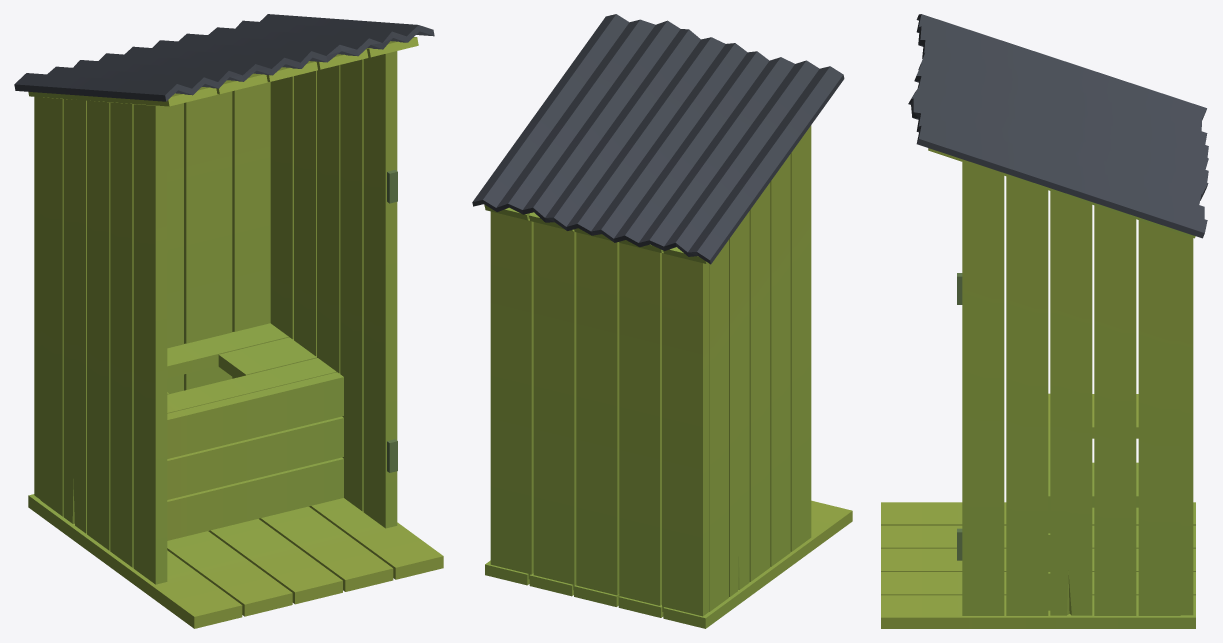
The model's file is Toilet_01.fbx.
The picture shows the model from 3 angles, left to right: view 1: azimuth 30°, elevation 25°; view 2: azimuth 150°, elevation 25°; view 3: azimuth 270°, elevation 25°; orthographic projection. The views are drawn at different scales.
Visible parts, largest first — view 1: Toilet_01; view 2: Toilet_01; view 3: Toilet_01.
Part boxes in pixels (x1,y1,x2,y2): Toilet_01: (14,14,443,628); Toilet_01: (472,14,852,628); Toilet_01: (881,14,1208,628).
Size of the model in its own units: 1.4 by 2.65 by 1.56.
